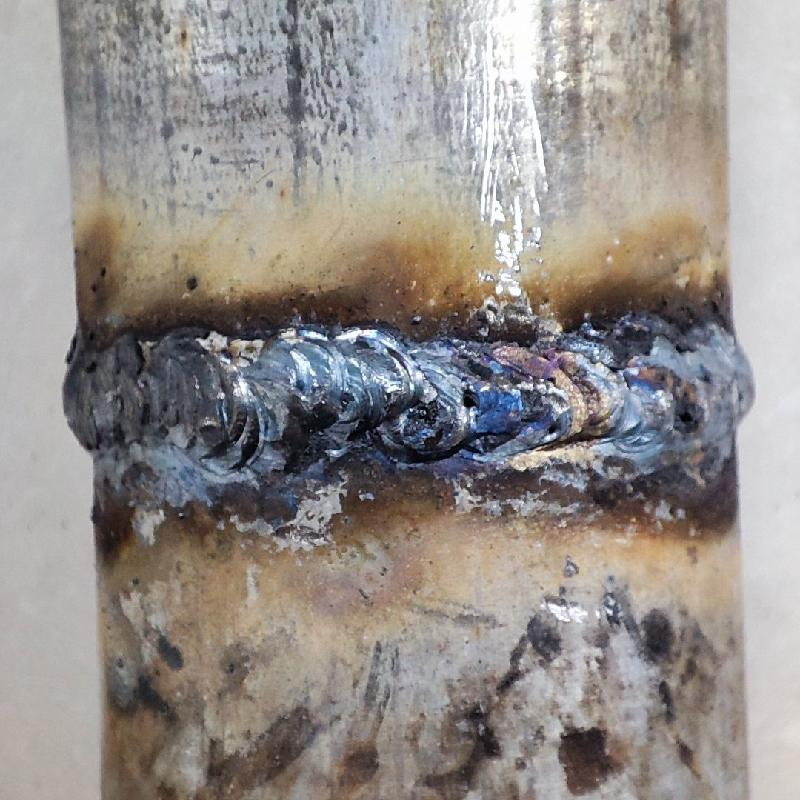Surface_pores: (667, 391, 713, 437), (454, 380, 494, 422)
good: (40, 320, 785, 494)
